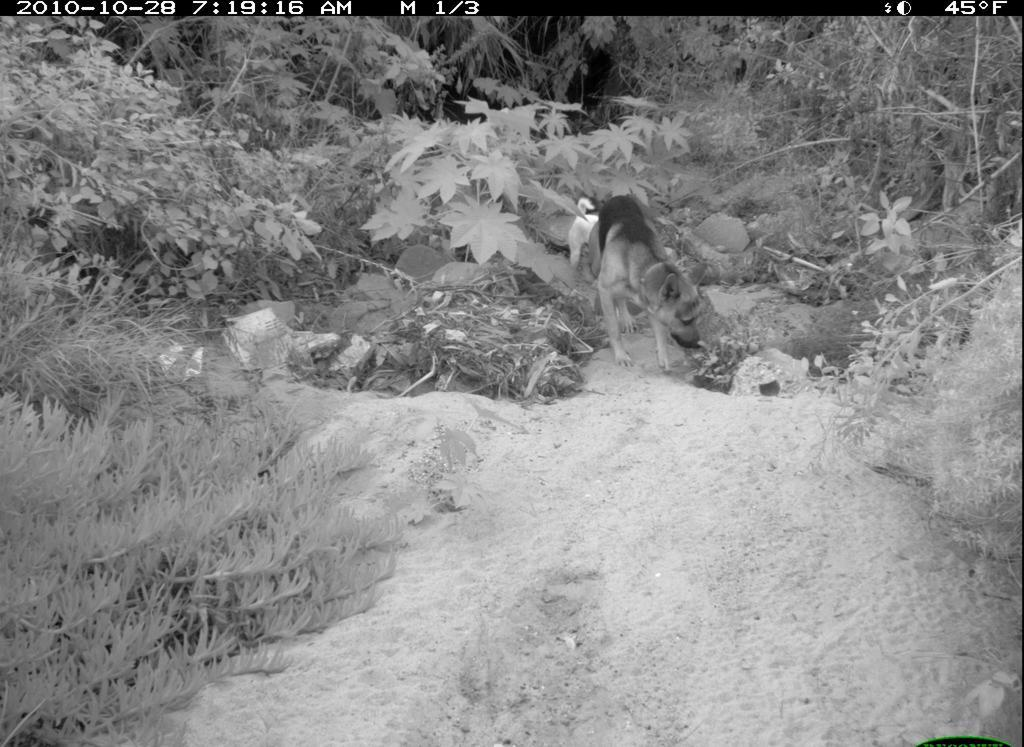dog: (587, 194, 708, 377)
